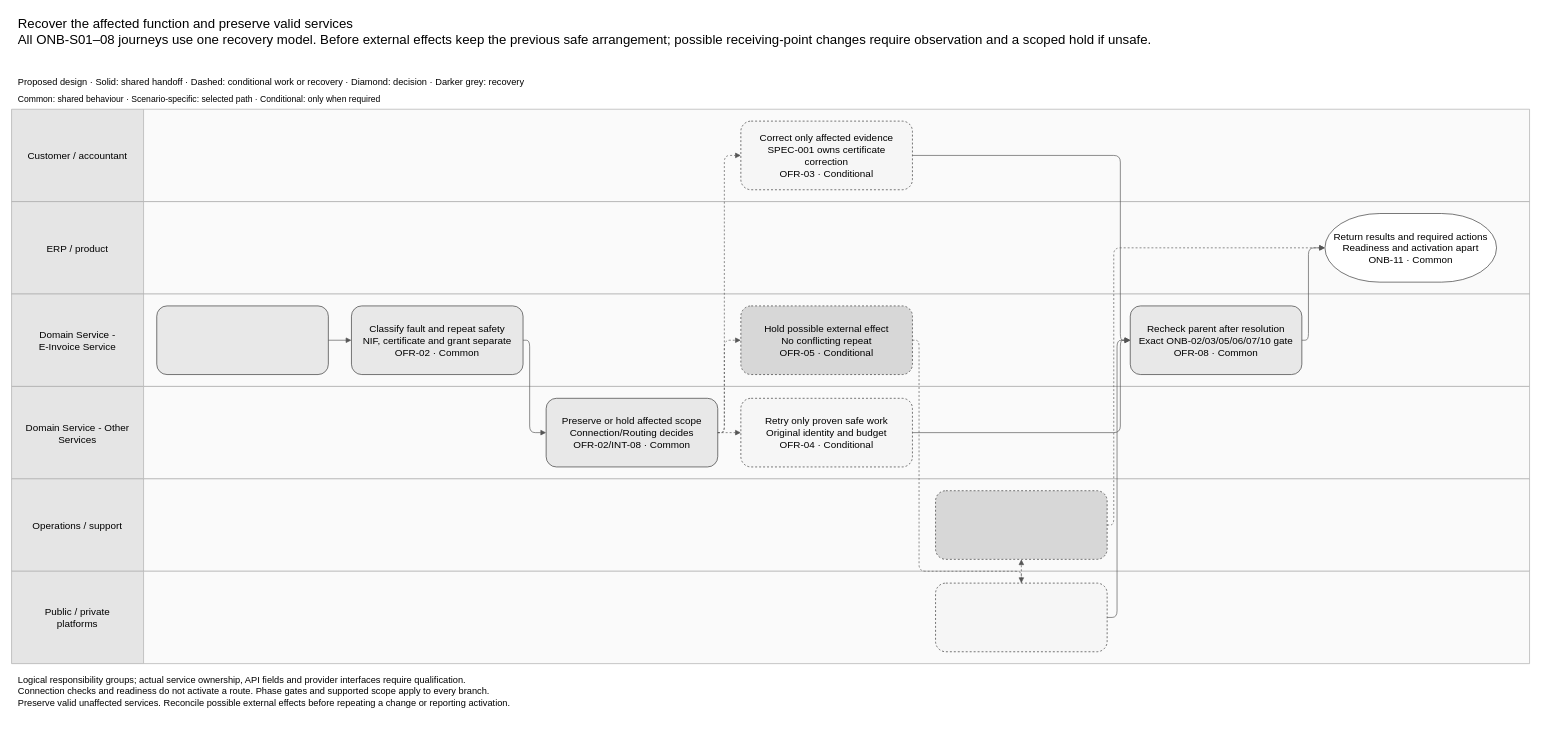
This 1541x744 diagram has some shape labels left out. The box of each missing label's shape, as (x1, y1, x2, y2) in pixels:
Capture operation and pre-state Parent scenario and checkpoint OFR-01 · Common: (156, 305, 328, 375)
Observe the original effect Reliable source and evidence OFR-06 · Conditional: (935, 582, 1107, 652)
Own unresolved or unsafe work Evidence and next action OFR-07 · Conditional: (935, 490, 1107, 559)
